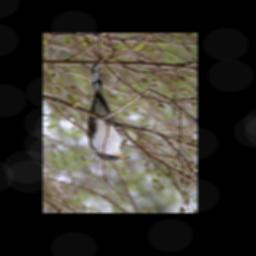Cuckoo: (85, 64, 132, 163)
